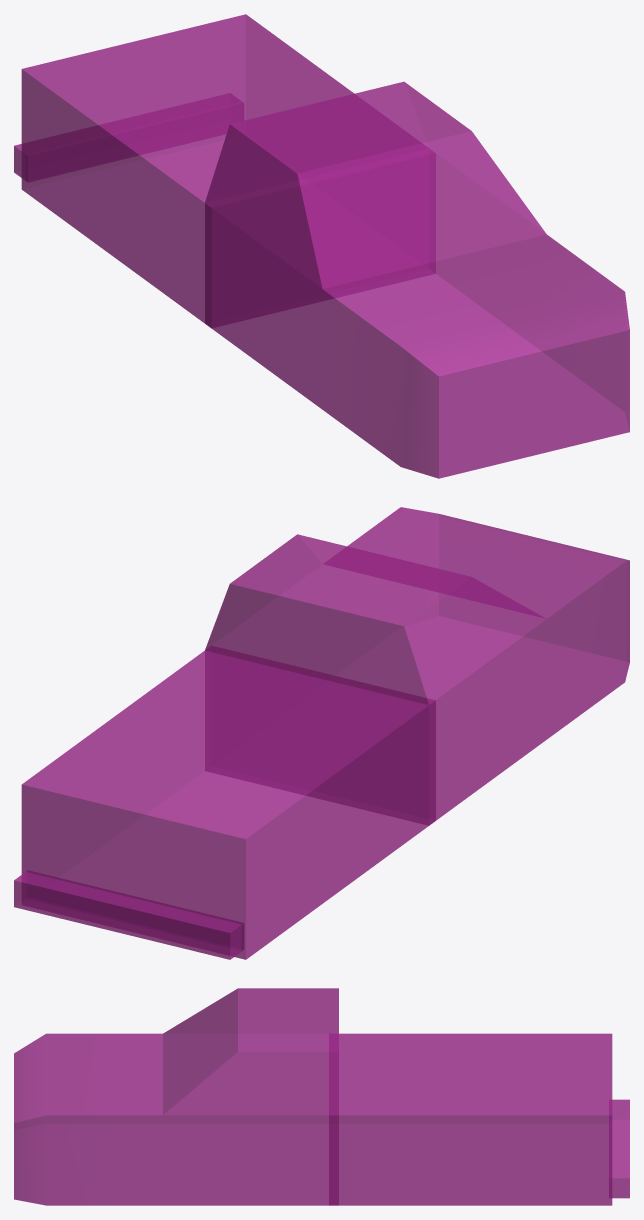
The model's file is SM_Veh_Pickup_01_Collision.fbx.
3 renders of one model, top to bottom at view 1: azimuth 30°, elevation 25°; view 2: azimuth 150°, elevation 25°; view 3: azimuth 270°, elevation 25°, orthographic. The views are drawn at different scales.
Visible parts, largest first — view 1: SM_Veh_Pickup_01_Collision; view 2: SM_Veh_Pickup_01_Collision; view 3: SM_Veh_Pickup_01_Collision.
Part boxes in pixels (bbox=[...]): SM_Veh_Pickup_01_Collision: bbox=[14, 14, 629, 478]; SM_Veh_Pickup_01_Collision: bbox=[14, 507, 629, 959]; SM_Veh_Pickup_01_Collision: bbox=[14, 988, 629, 1205].
Bounding box in the file's own units: 215 × 177 × 686.
